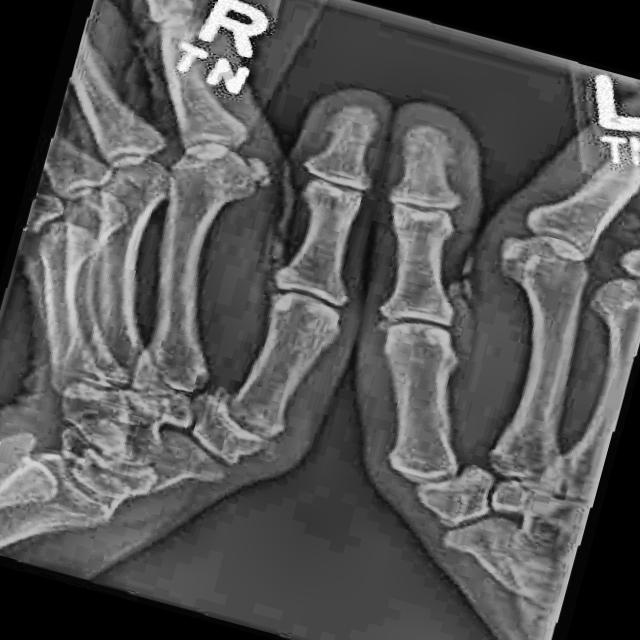fingers positive: (386, 213, 439, 243)
